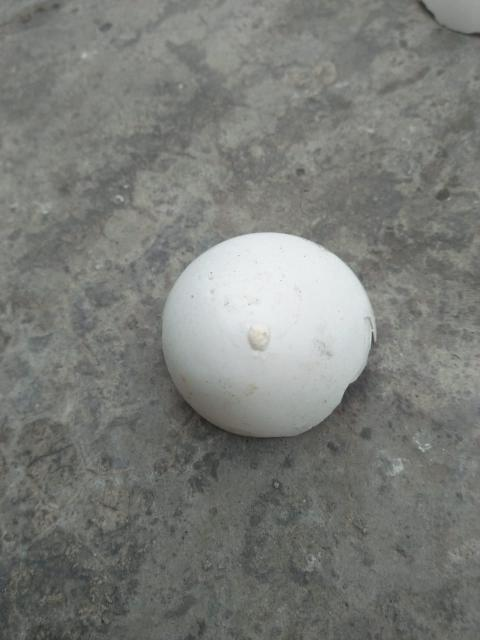Roto: (160, 231, 377, 438)
